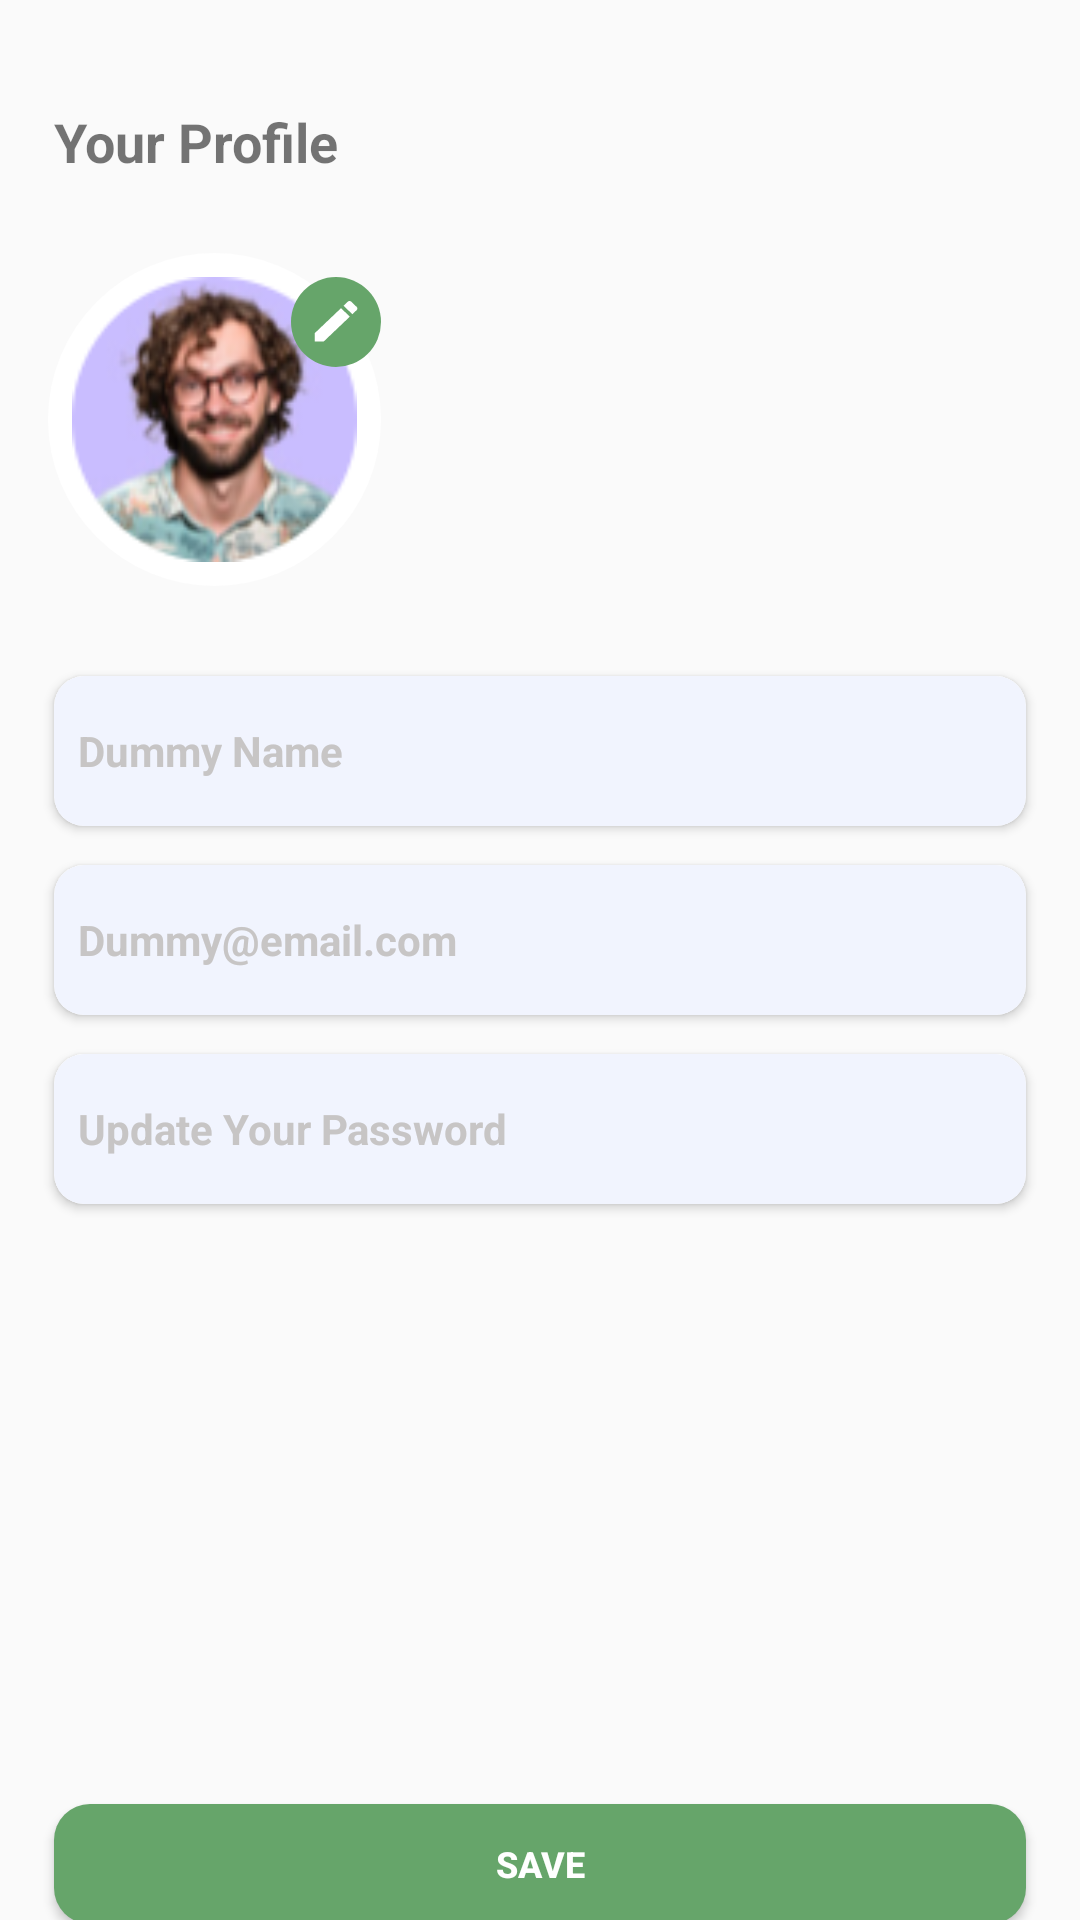

Where to tap for icons on this 1080×1920 app screen, as [x,y]:
edit: [336,321]
